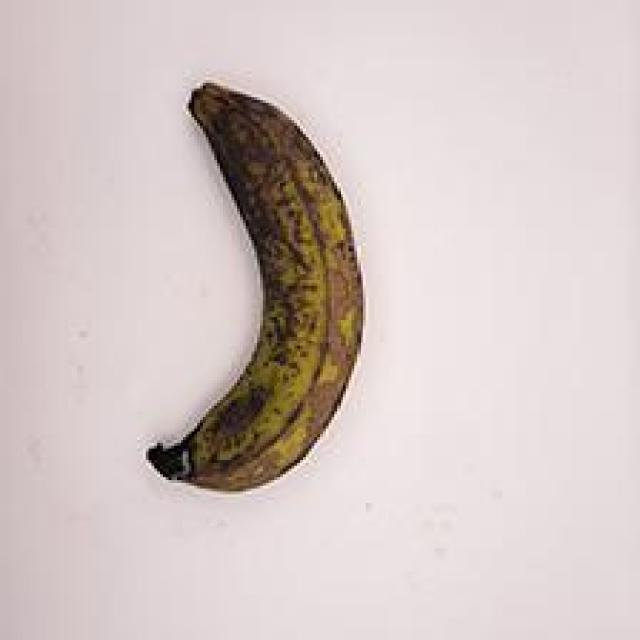Overripe: (76, 42, 397, 549)
